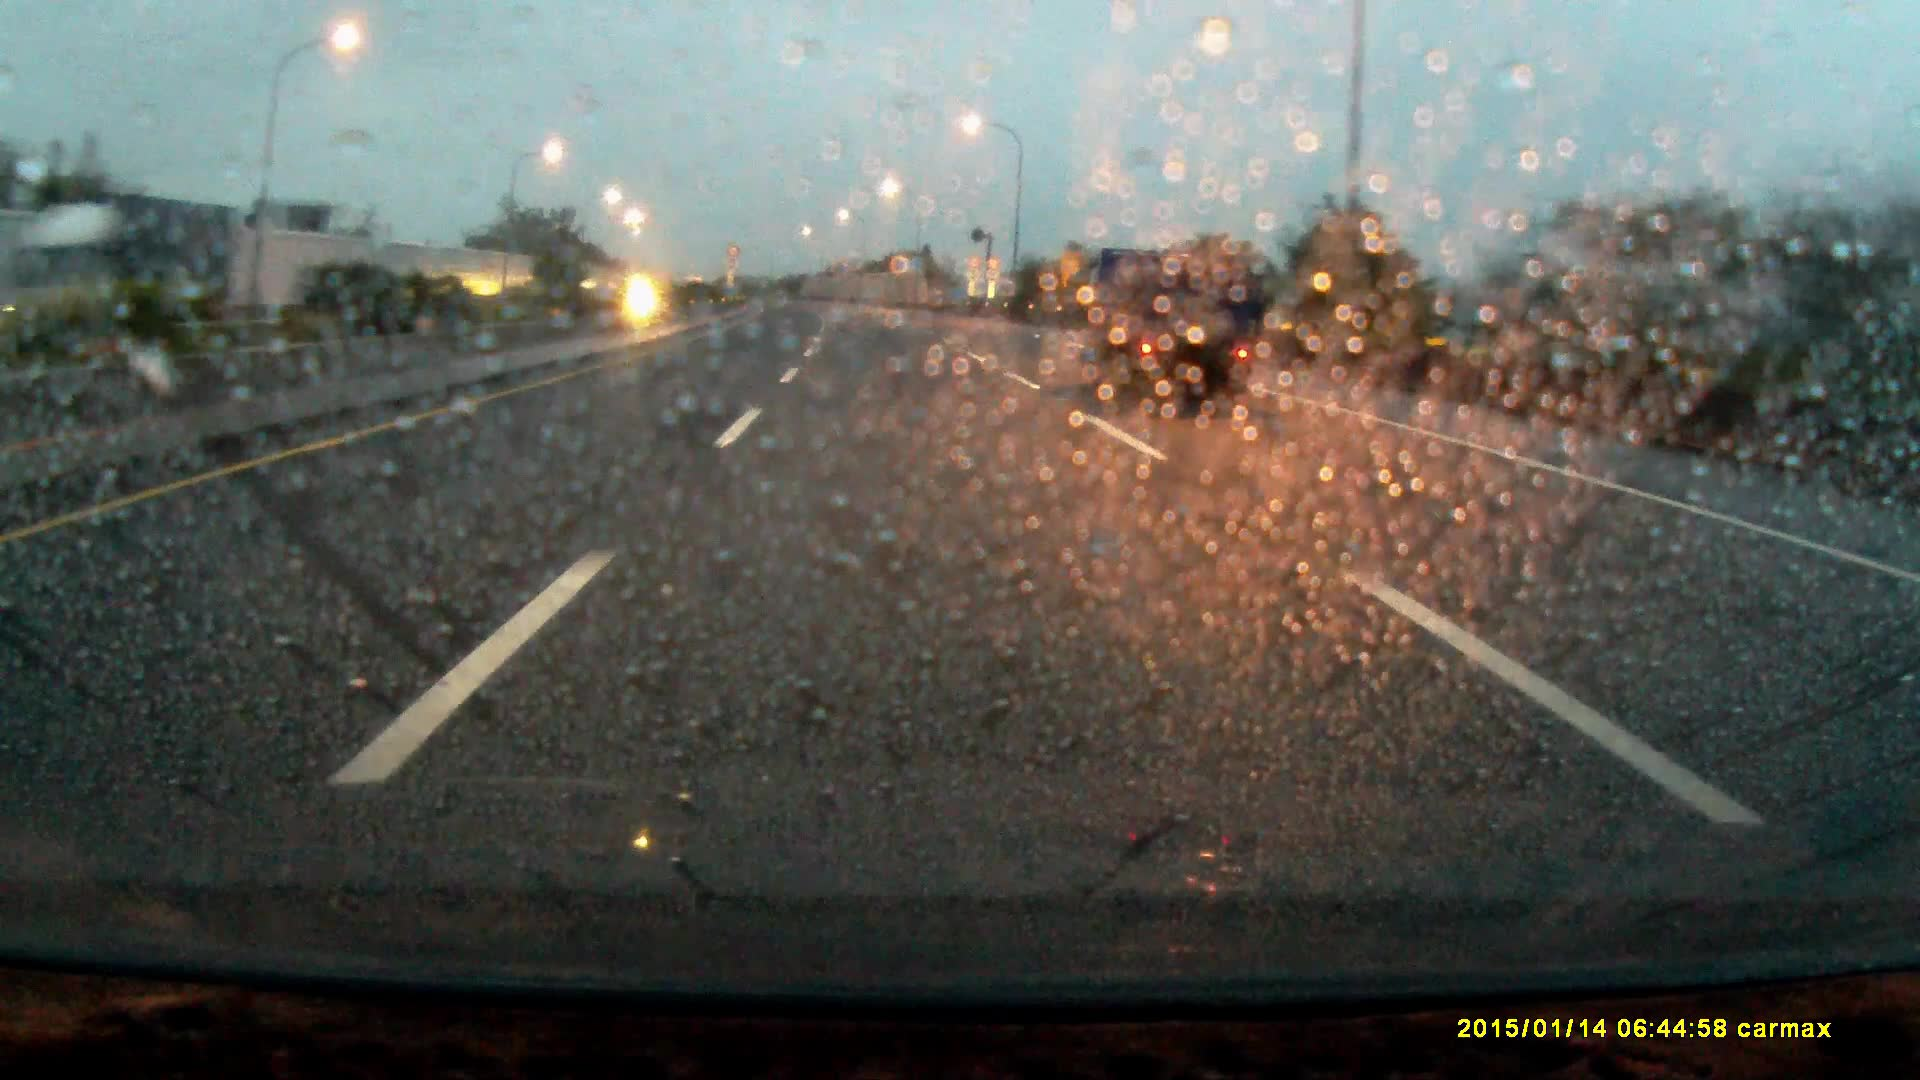vehicle: (1075, 247, 1249, 409), (74, 198, 224, 334)
